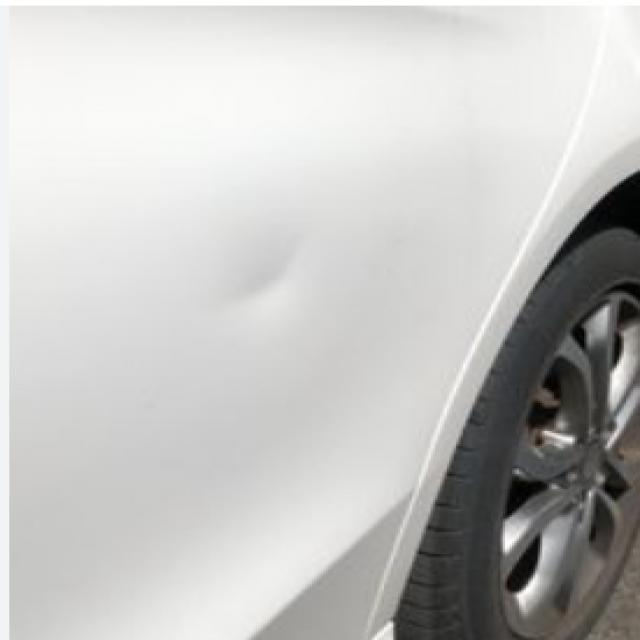dents: (208, 227, 335, 342)
